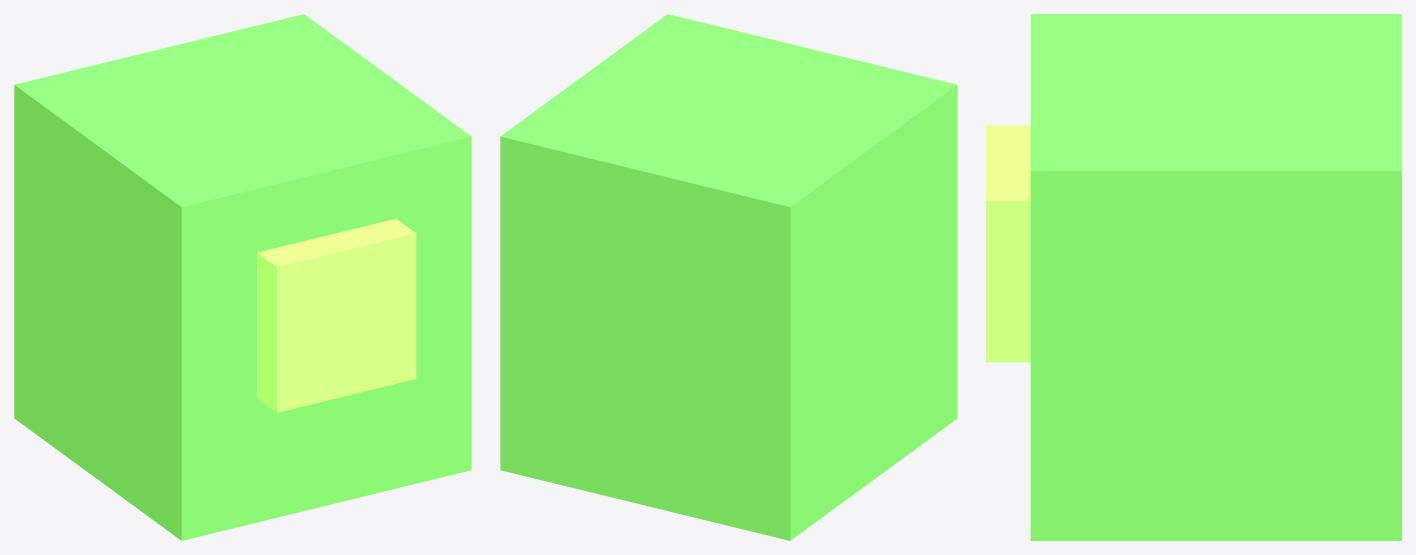
File: enemy_swarm.glb
The picture shows the model from 3 angles, left to right: view 1: azimuth 30°, elevation 25°; view 2: azimuth 150°, elevation 25°; view 3: azimuth 270°, elevation 25°; orthographic projection. The views are drawn at different scales.
Visible parts, largest first — view 1: Torso, Core; view 2: Torso; view 3: Torso, Core.
Boxes of the visible parts, x1=… form: Torso: x1=14, y1=14, x2=471, y2=540; Core: x1=257, y1=218, x2=416, y2=412; Torso: x1=500, y1=14, x2=957, y2=540; Torso: x1=1030, y1=14, x2=1401, y2=540; Core: x1=986, y1=125, x2=1030, y2=362.
Bounding box in the file's own units: 1 × 1.1 × 1.12.
